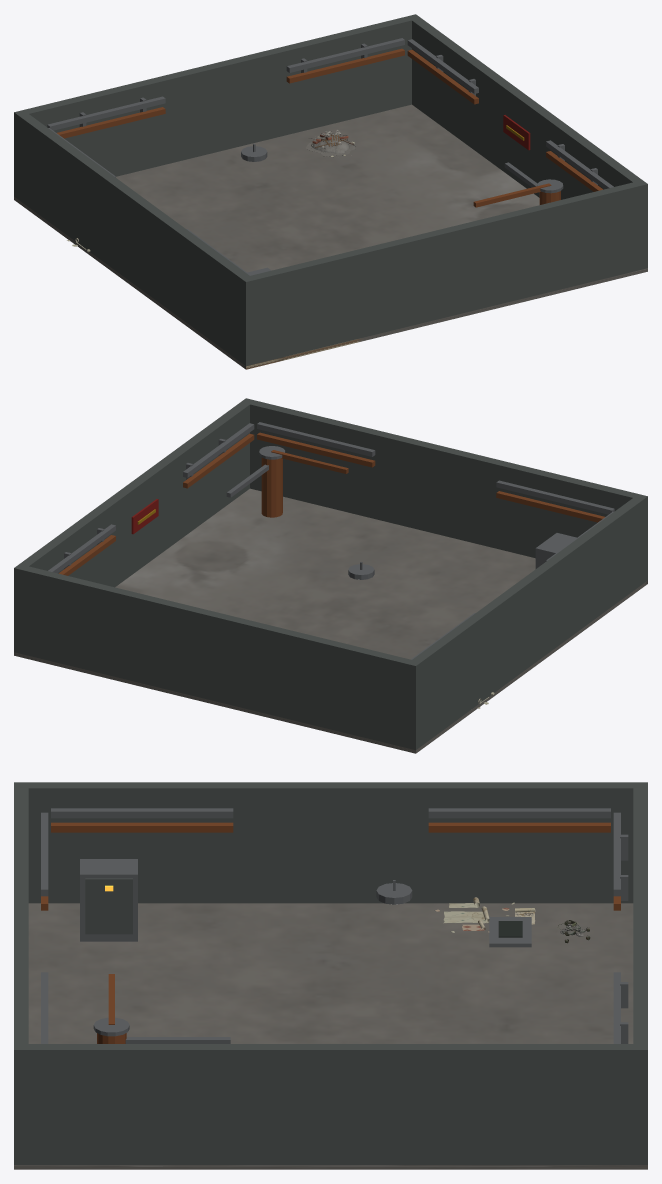
Rendered from room_pipe_gallery.glb.
The picture shows the model from 3 angles, top to bottom: view 1: azimuth 30°, elevation 25°; view 2: azimuth 150°, elevation 25°; view 3: azimuth 270°, elevation 25°; orthographic projection. The views are drawn at different scales.
Parts seen in each view (by area): view 1: Floor, Wall_S_A, Wall_S_B, Wall_N_B, Wall_N_A, Wall_W_A, Wall_W_B, Wall_E_B, Plug_S, Plug_N, Plug_W, Wall_E_A (+15 smaller); view 2: Floor, Wall_N_A, Wall_N_B, Wall_S_B, Wall_S_A, Wall_W_A, Wall_W_B, Wall_E_A, Plug_N, Plug_S, Plug_W, Wall_E_B (+16 smaller); view 3: Floor, Wall_E_A, Wall_E_B, Wall_W_B, Wall_W_A, Plug_E, Plug_W, Wall_N_B, Wall_S_B, Wall_E_L, Wall_W_L, NoCol_CabinetDoor (+17 smaller).
Boxes of the visible parts, x1,y1,x2,y2 form: Floor: (14, 104, 647, 369); Wall_S_A: (240, 240, 403, 366); Wall_S_B: (485, 180, 647, 306); Wall_N_B: (259, 14, 420, 140); Wall_N_A: (14, 74, 176, 199); Wall_W_A: (155, 213, 249, 361); Wall_W_B: (19, 114, 113, 262); Wall_E_B: (412, 18, 506, 166); Plug_S: (403, 233, 490, 327); Plug_N: (177, 67, 263, 161); Plug_W: (105, 189, 155, 299); Wall_E_A: (547, 117, 641, 199); Floor: (14, 488, 647, 753); Wall_N_A: (258, 624, 421, 750); Wall_N_B: (14, 564, 176, 690); Wall_S_B: (241, 398, 402, 524); Wall_S_A: (485, 458, 647, 583); Wall_W_A: (548, 498, 642, 646); Wall_W_B: (412, 597, 506, 745); Wall_E_A: (155, 402, 249, 550); Plug_N: (171, 617, 258, 711); Plug_S: (398, 451, 484, 545); Plug_W: (506, 573, 556, 683); Wall_E_B: (20, 501, 114, 586); Floor: (14, 903, 647, 1169); Wall_E_A: (28, 1044, 262, 1164); Wall_E_B: (399, 1044, 633, 1164); Wall_W_B: (399, 782, 633, 903); Wall_W_A: (28, 782, 262, 903); Plug_E: (262, 1064, 399, 1164); Plug_W: (262, 802, 399, 903); Wall_N_B: (633, 945, 647, 1164); Wall_S_B: (14, 945, 28, 1164); Wall_E_L: (262, 1044, 399, 1064); Wall_W_L: (262, 782, 399, 802); NoCol_CabinetDoor: (85, 878, 132, 934).
Bounding box in the file's own units: 12.22 × 2.5 × 12.
Materials: 13 (4 with a texture image).
